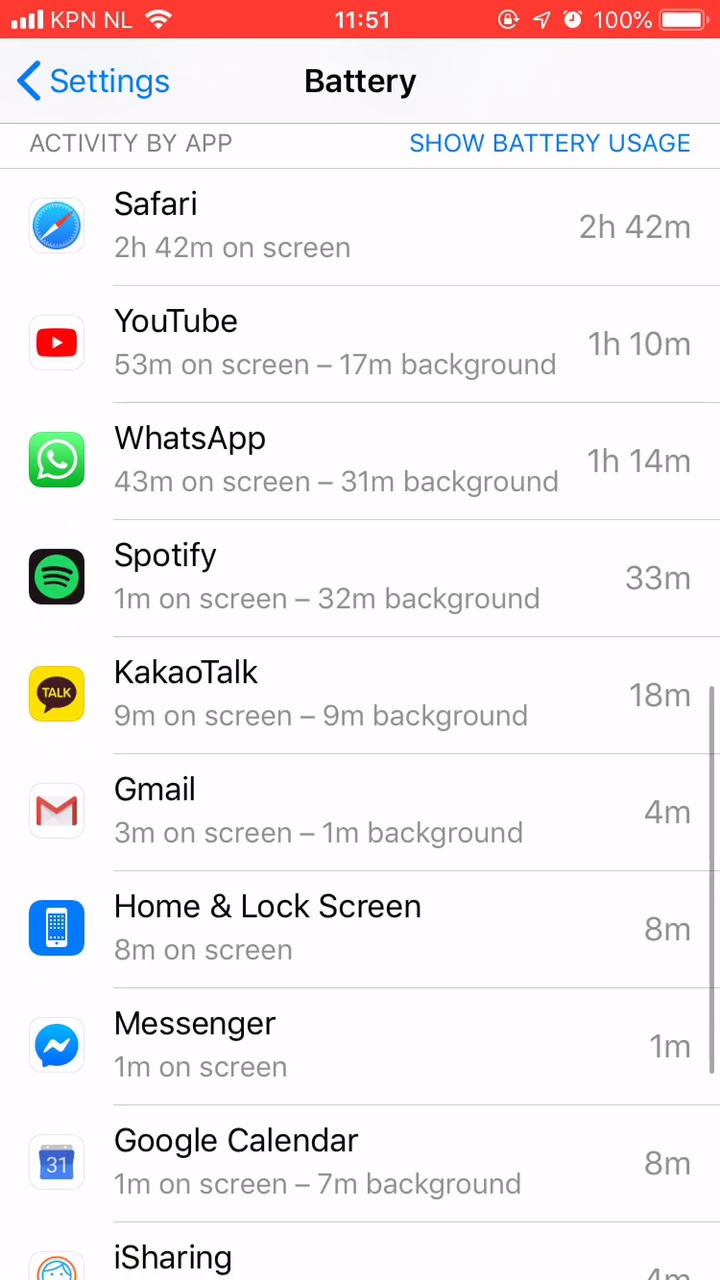app: (29, 415, 698, 512), (28, 527, 697, 624), (29, 654, 698, 751), (25, 757, 694, 854), (27, 880, 696, 977), (25, 997, 694, 1094), (32, 1102, 701, 1199), (33, 187, 707, 268), (28, 292, 702, 373)
